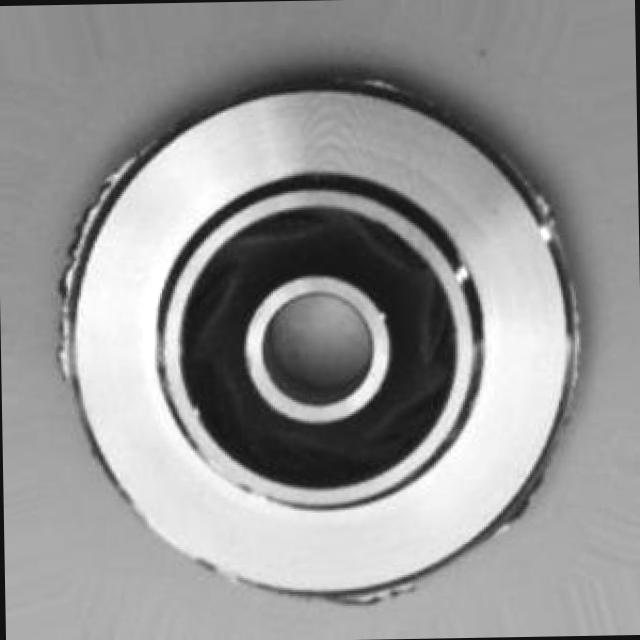Defect: (52, 158, 110, 320)
